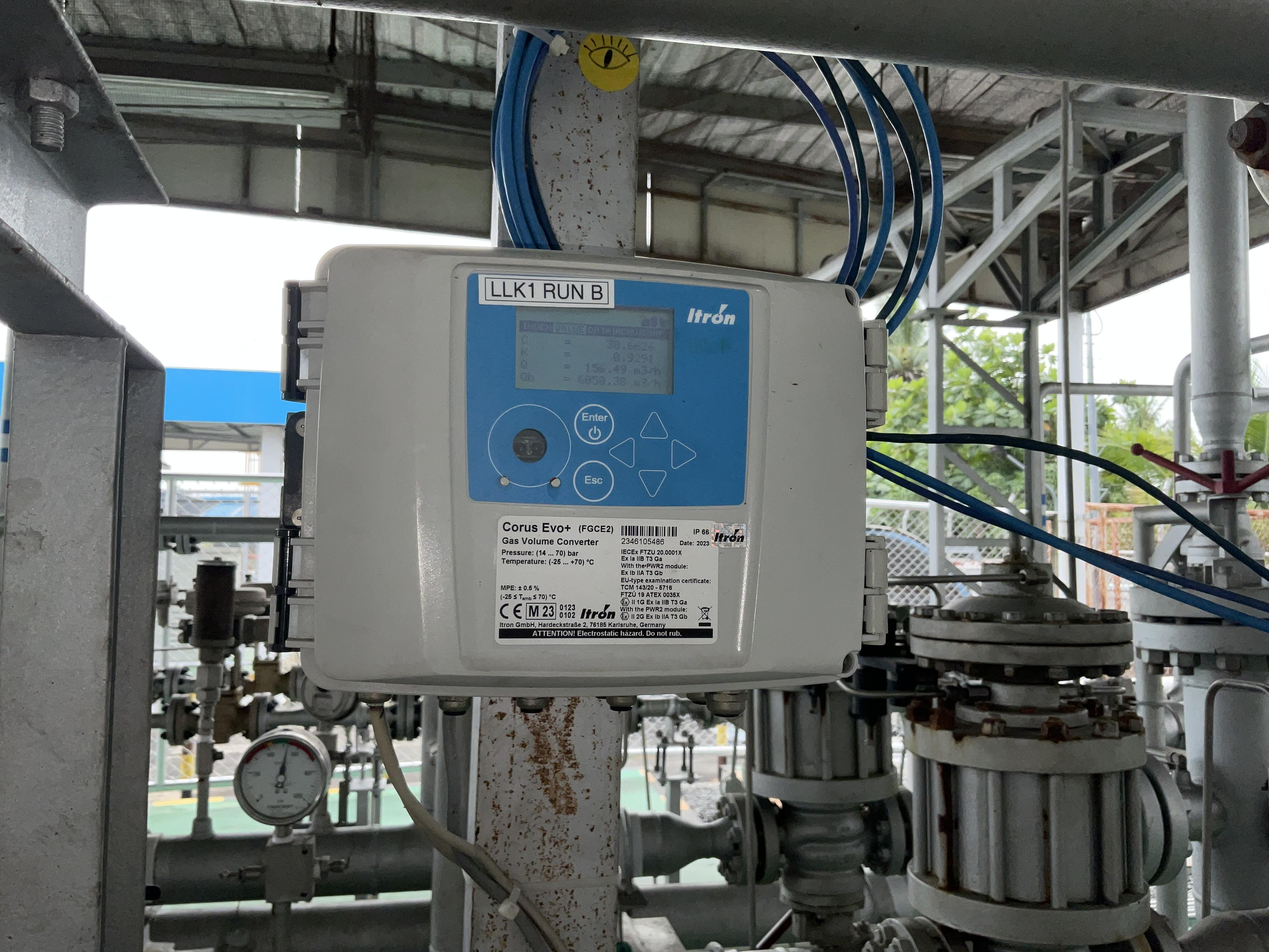digital_screen: (513, 301, 676, 394)
